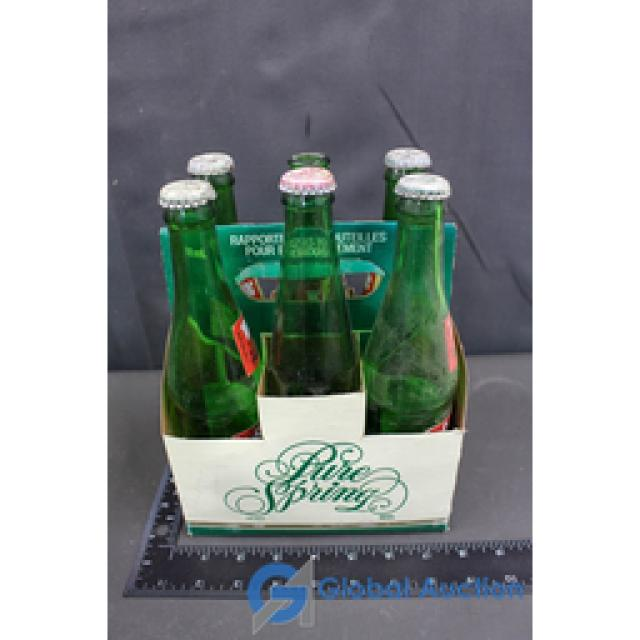glass_beverage_bottles: (262, 164, 362, 444), (150, 188, 263, 434), (377, 177, 460, 428)
